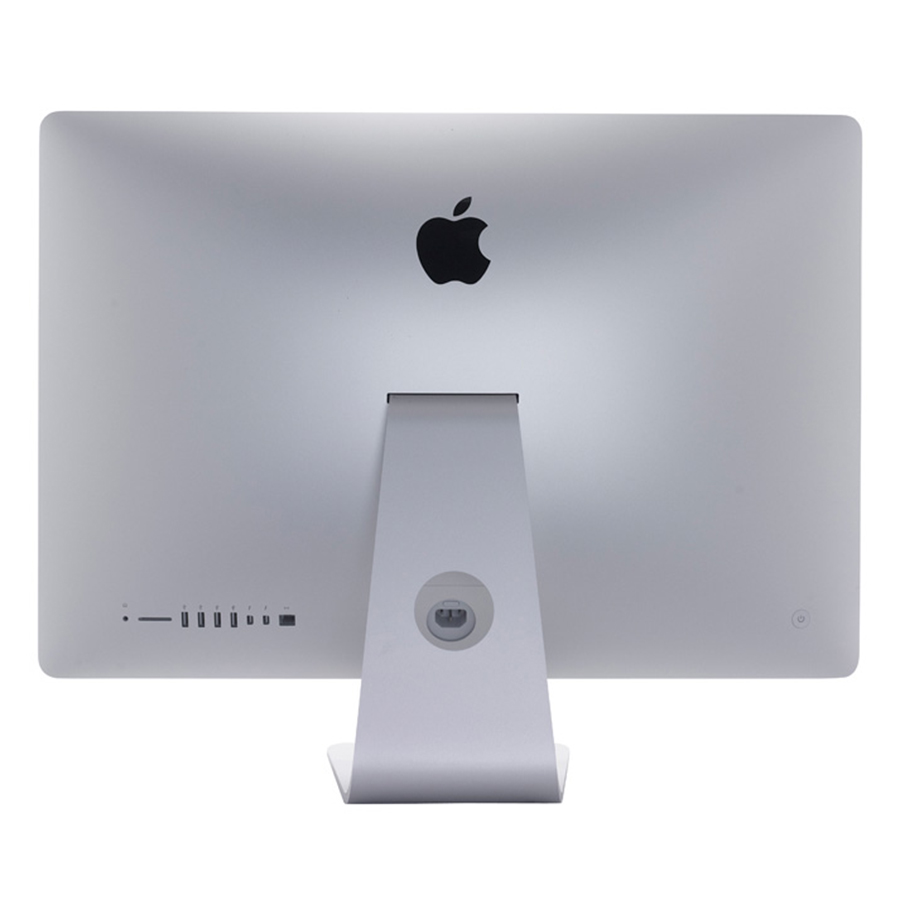Apple: (346, 198, 608, 333)
